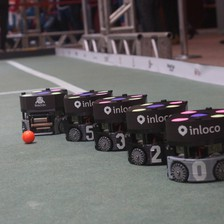ball: (22, 129, 35, 144)
robot: (165, 107, 224, 183), (125, 99, 169, 166), (19, 87, 69, 135), (93, 94, 131, 152), (64, 90, 97, 142)
